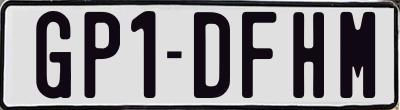1: (130, 11, 158, 104)
D: (191, 11, 233, 102)
F: (241, 10, 279, 101)
G: (35, 11, 74, 104)
H: (292, 12, 328, 100)
M: (338, 11, 373, 101)
P: (81, 12, 118, 103)
